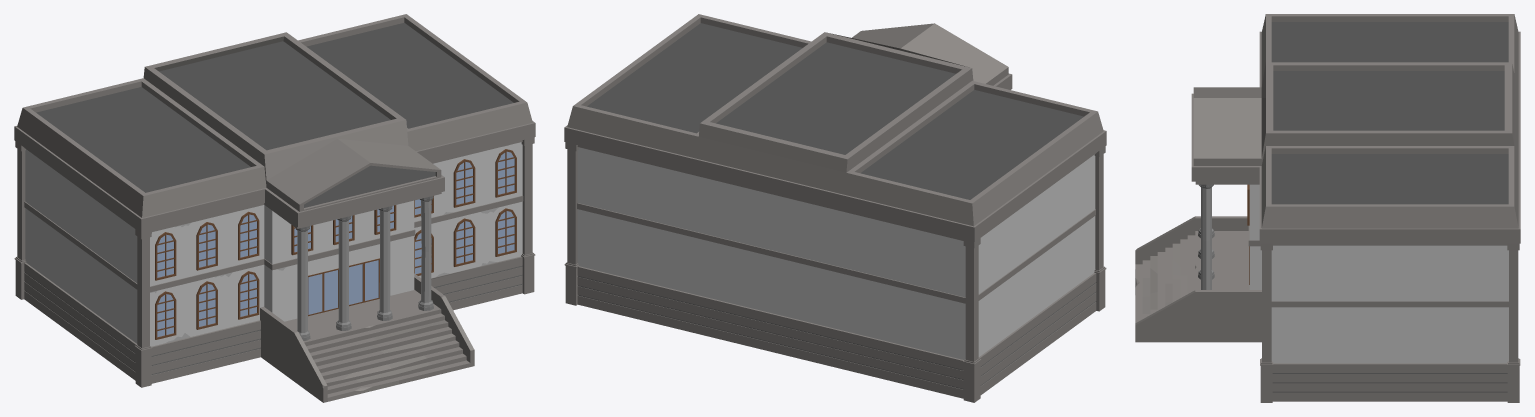
The model's file is CityHall_01.glb.
3 renders of one model, left to right at view 1: azimuth 30°, elevation 25°; view 2: azimuth 150°, elevation 25°; view 3: azimuth 270°, elevation 25°, orthographic. The views are drawn at different scales.
Parts seen in each view (by area): view 1: CityHall_01; view 2: CityHall_01; view 3: CityHall_01.
Boxes of the visible parts, left/top/right/bottom form: CityHall_01: left=14, top=14, right=535, bottom=402; CityHall_01: left=564, top=14, right=1106, bottom=402; CityHall_01: left=1135, top=14, right=1520, bottom=402.
Bounding box in the file's own units: 22.6 × 11 × 18.6.
1 material, 1 textured.
